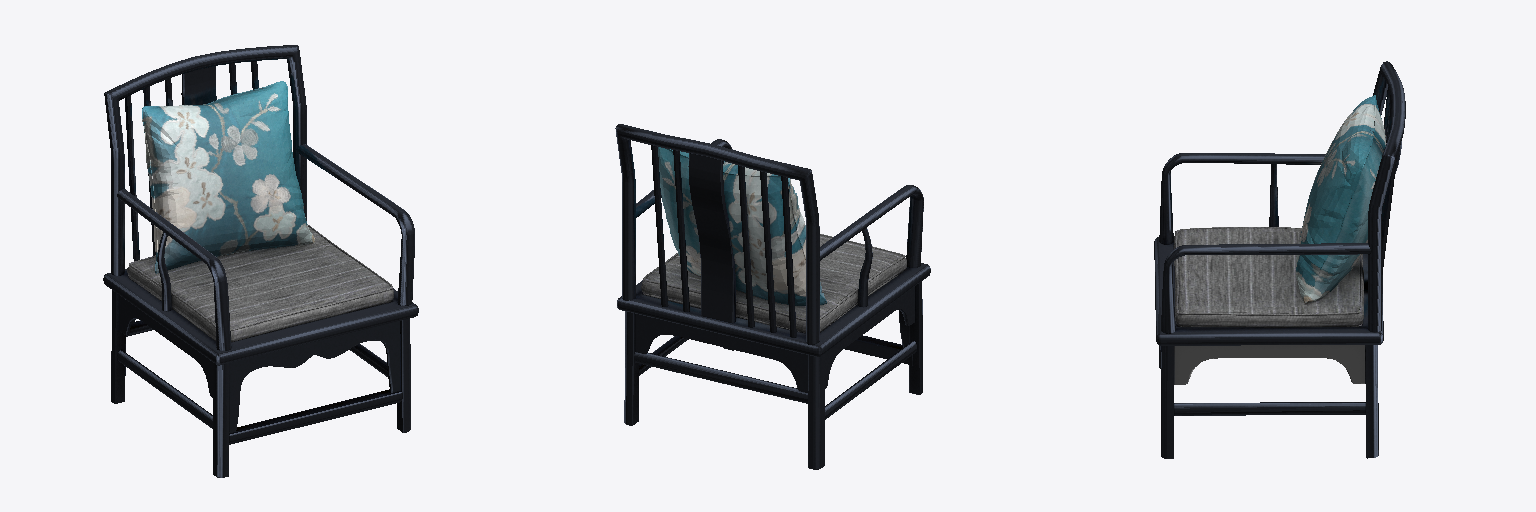
3 renders of one model, left to right at view 1: azimuth 30°, elevation 25°; view 2: azimuth 150°, elevation 25°; view 3: azimuth 270°, elevation 25°, orthographic.
Visible parts, largest first — view 1: solid_001, solid_002, solid_003; view 2: solid_001, solid_002, solid_003; view 3: solid_001, solid_003, solid_002, solid_004.
Boxes of the visible parts, x1,y1,x2,y2 form: solid_001: [103, 45, 418, 477]; solid_002: [142, 81, 314, 273]; solid_003: [127, 225, 393, 341]; solid_001: [615, 124, 930, 469]; solid_002: [658, 147, 826, 305]; solid_003: [641, 234, 906, 332]; solid_001: [1154, 61, 1405, 458]; solid_003: [1174, 227, 1363, 327]; solid_002: [1296, 95, 1386, 303]; solid_004: [1174, 345, 1365, 384].
Size of the model in its own units: 1.02 by 1.46 by 1.07.
1 materials, 1 textured.